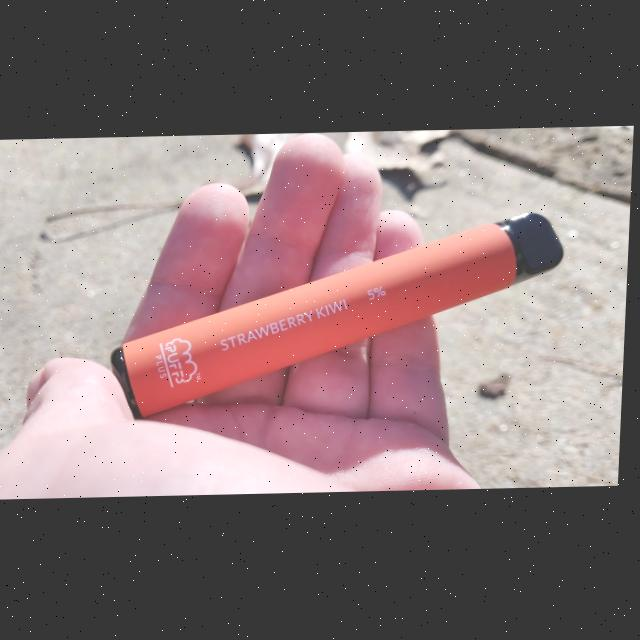vape: (110, 211, 569, 421)
